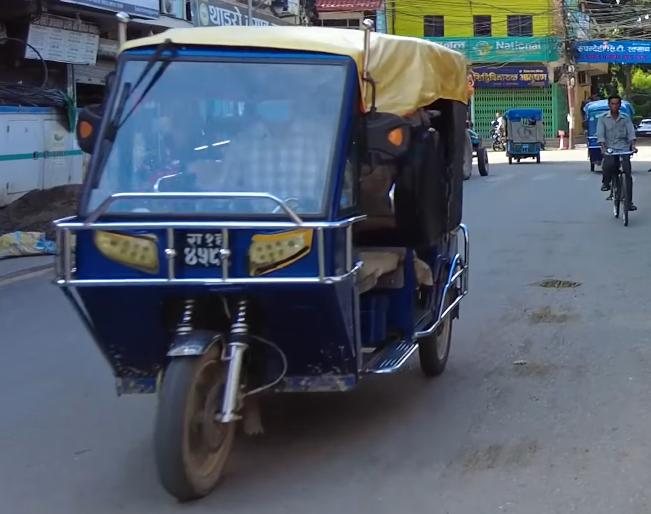e-rickshaw: (77, 12, 484, 502), (503, 105, 547, 168)
